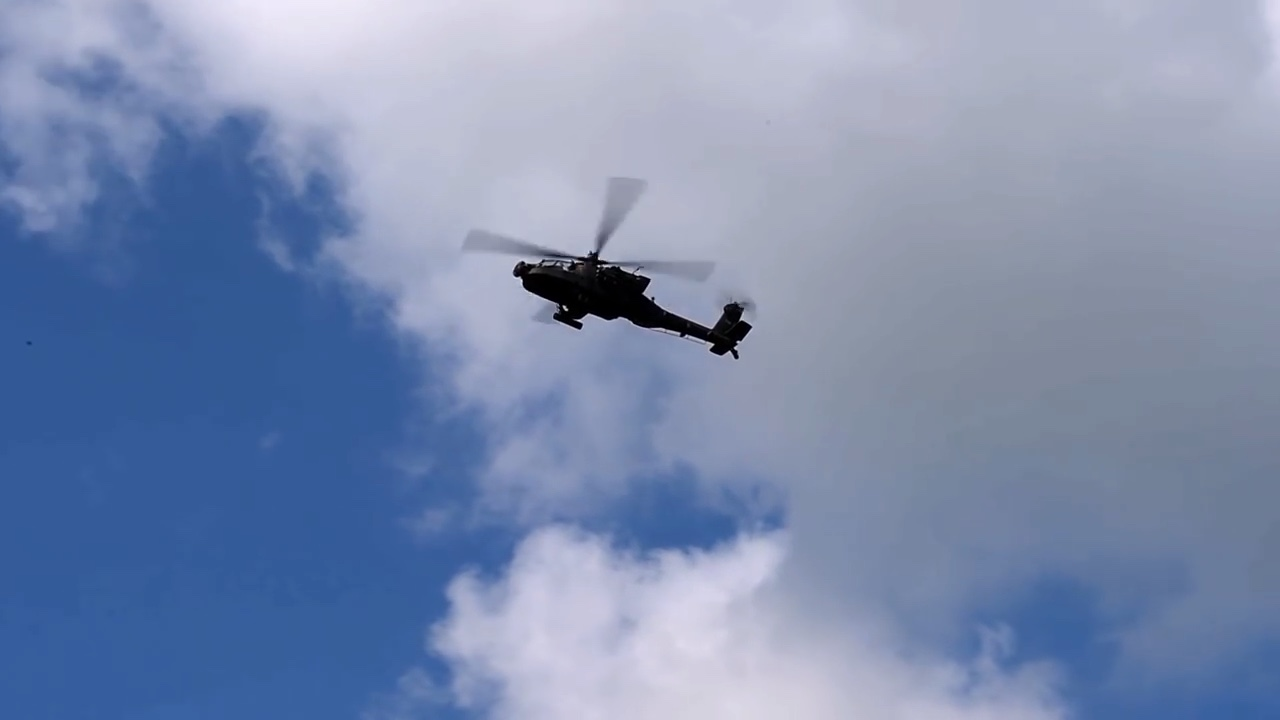ah64: (456, 175, 760, 362)
